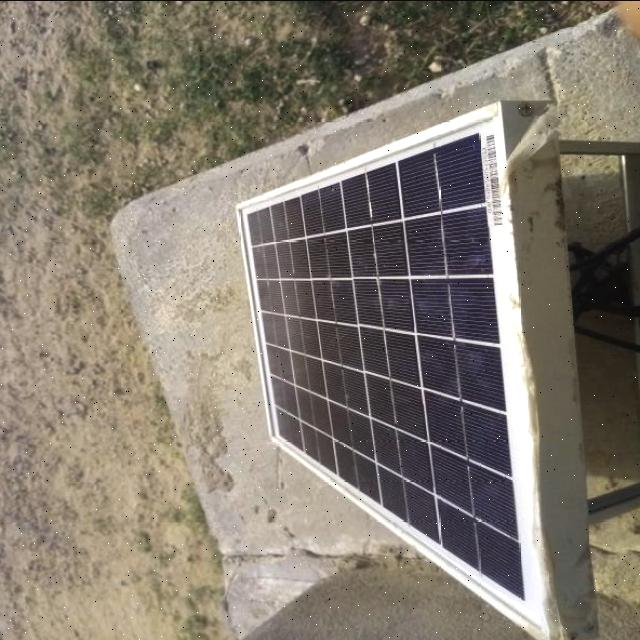Normal Solar Panel: (239, 101, 558, 640)
